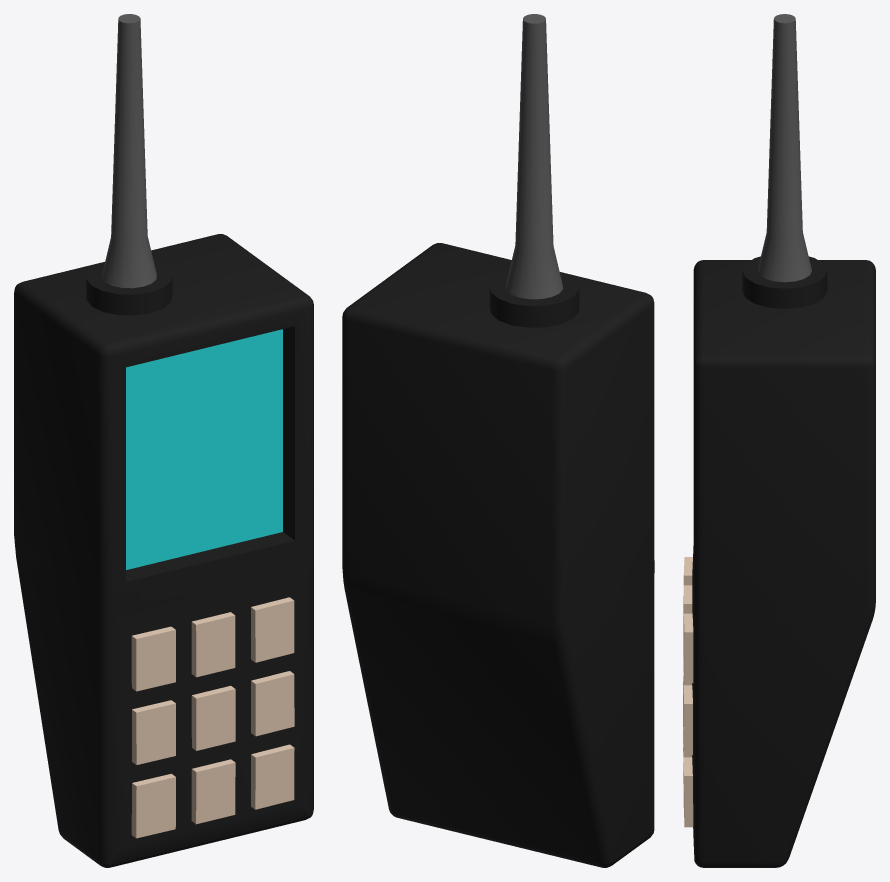
The picture shows the model from 3 angles, left to right: view 1: azimuth 30°, elevation 25°; view 2: azimuth 150°, elevation 25°; view 3: azimuth 270°, elevation 25°; orthographic projection. The views are drawn at different scales.
Parts seen in each view (by area): view 1: Body + Buttons, Antennae, Antennae Base; view 2: Body + Buttons, Antennae, Antennae Base; view 3: Body + Buttons, Antennae, Antennae Base.
Part boxes in pixels (x1,y1,x2,y2): Body + Buttons: [14, 234, 313, 867]; Antennae: [101, 14, 156, 288]; Antennae Base: [86, 261, 172, 315]; Body + Buttons: [342, 243, 654, 867]; Antennae: [505, 14, 563, 299]; Antennae Base: [489, 271, 579, 327]; Body + Buttons: [683, 260, 875, 867]; Antennae: [757, 14, 811, 282]; Antennae Base: [742, 256, 827, 308].
Size of the model in its own units: 0.8565 by 3.06 by 0.6821.
